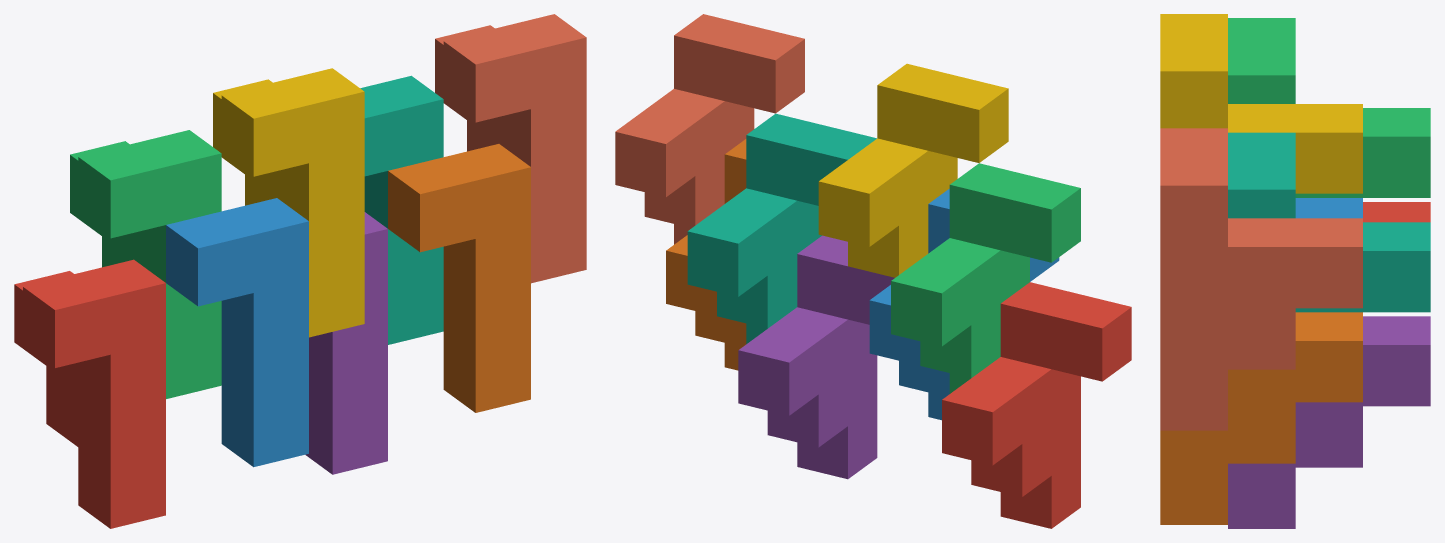
The model's file is tiling.obj.
3 renders of one model, left to right at view 1: azimuth 30°, elevation 25°; view 2: azimuth 150°, elevation 25°; view 3: azimuth 270°, elevation 25°, orthographic. The views are drawn at different scales.
Parts seen in each view (by area): view 1: copy_1_domain_1, copy_1_domain_2, copy_1_domain_6, copy_1_domain_4, copy_1_domain_8, copy_1_domain_3, copy_1_domain_5, copy_1_domain_7; view 2: copy_1_domain_1, copy_1_domain_3, copy_1_domain_8, copy_1_domain_5, copy_1_domain_4, copy_1_domain_7, copy_1_domain_2, copy_1_domain_6; view 3: copy_1_domain_8, copy_1_domain_6, copy_1_domain_4, copy_1_domain_5, copy_1_domain_7, copy_1_domain_3, copy_1_domain_1, copy_1_domain_2.
Part boxes in pixels (x1,y1,x2,y2): copy_1_domain_1: (14,259,165,528); copy_1_domain_2: (166,198,308,467); copy_1_domain_6: (388,144,530,412); copy_1_domain_4: (213,68,364,337); copy_1_domain_8: (435,14,586,283); copy_1_domain_3: (70,130,221,398); copy_1_domain_5: (305,212,387,474); copy_1_domain_7: (360,75,443,344); copy_1_domain_1: (942,282,1131,528); copy_1_domain_3: (891,163,1080,393); copy_1_domain_8: (615,14,804,244); copy_1_domain_5: (738,235,894,479); copy_1_domain_4: (818,63,1008,277); copy_1_domain_7: (687,113,876,343); copy_1_domain_2: (869,188,1059,420); copy_1_domain_6: (666,139,746,370); copy_1_domain_8: (1160,128,1362,430); copy_1_domain_6: (1160,312,1362,524); copy_1_domain_4: (1160,14,1362,193); copy_1_domain_5: (1228,316,1430,528); copy_1_domain_7: (1228,132,1430,312); copy_1_domain_3: (1228,18,1430,197); copy_1_domain_1: (1363,202,1430,222); copy_1_domain_2: (1295,198,1362,218).
Bounding box in the file's own units: 9 × 7 × 4.
